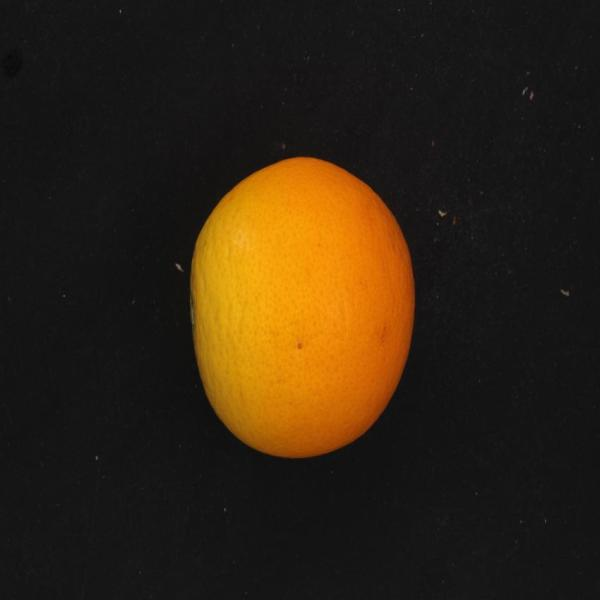Sana: (170, 150, 430, 483)
